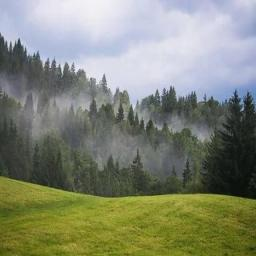Low smoke: (1, 68, 212, 180)
